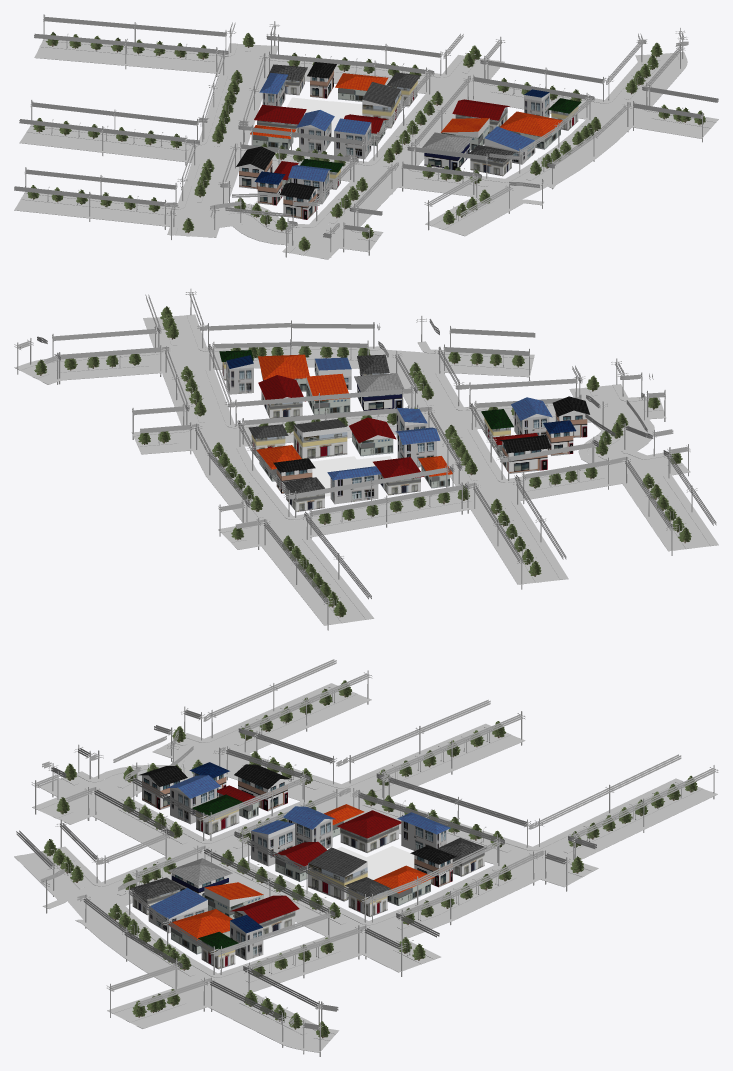
File: MyScene1_0.fbx
3 renders of one model, top to bottom at view 1: azimuth 30°, elevation 25°; view 2: azimuth 150°, elevation 25°; view 3: azimuth 270°, elevation 25°, orthographic. The views are drawn at different scales.
Visible parts, largest first — view 1: CityEngineMaterial_5_m, CityEngineMaterial_2_m, CityEngineMaterial_4_m, CityEngineMaterial_13_m, CityEngineMaterial_3_m, CityEngineMaterial_m, CityEngineMaterial_10_m, CityEngineMaterial_22_m, CityEngineMaterial_8_m, CityEngineMaterial_23_m, CityEngineMaterial_27_m, CityEngineMaterial_18_m (+16 smaller); view 2: CityEngineMaterial_5_m, CityEngineMaterial_2_m, CityEngineMaterial_4_m, CityEngineMaterial_m, CityEngineMaterial_13_m, CityEngineMaterial_3_m, CityEngineMaterial_10_m, CityEngineMaterial_22_m, CityEngineMaterial_8_m, CityEngineMaterial_27_m, CityEngineMaterial_18_m, CityEngineMaterial_23_m (+16 smaller); view 3: CityEngineMaterial_5_m, CityEngineMaterial_4_m, CityEngineMaterial_2_m, CityEngineMaterial_22_m, CityEngineMaterial_3_m, CityEngineMaterial_m, CityEngineMaterial_8_m, CityEngineMaterial_18_m, CityEngineMaterial_23_m, CityEngineMaterial_13_m, CityEngineMaterial_20_m, CityEngineMaterial_27_m (+15 smaller).
Part boxes in pixels (<box>): CityEngineMaterial_5_m: <box>14,17,718,238</box>; CityEngineMaterial_2_m: <box>20,41,715,256</box>; CityEngineMaterial_4_m: <box>14,39,718,259</box>; CityEngineMaterial_13_m: <box>55,54,707,240</box>; CityEngineMaterial_3_m: <box>17,40,715,258</box>; CityEngineMaterial_m: <box>25,14,702,257</box>; CityEngineMaterial_10_m: <box>18,45,683,258</box>; CityEngineMaterial_22_m: <box>262,81,549,204</box>; CityEngineMaterial_8_m: <box>168,52,632,248</box>; CityEngineMaterial_23_m: <box>259,73,534,181</box>; CityEngineMaterial_27_m: <box>250,73,562,138</box>; CityEngineMaterial_18_m: <box>254,99,509,180</box>; CityEngineMaterial_5_m: <box>18,292,716,603</box>; CityEngineMaterial_2_m: <box>27,316,700,624</box>; CityEngineMaterial_4_m: <box>14,314,718,625</box>; CityEngineMaterial_m: <box>17,288,692,630</box>; CityEngineMaterial_13_m: <box>53,315,698,603</box>; CityEngineMaterial_3_m: <box>20,315,710,624</box>; CityEngineMaterial_10_m: <box>20,326,709,620</box>; CityEngineMaterial_22_m: <box>226,359,549,504</box>; CityEngineMaterial_8_m: <box>152,350,668,545</box>; CityEngineMaterial_27_m: <box>256,354,452,476</box>; CityEngineMaterial_18_m: <box>258,375,538,478</box>; CityEngineMaterial_23_m: <box>315,357,552,480</box>; CityEngineMaterial_5_m: <box>16,659,715,1029</box>; CityEngineMaterial_4_m: <box>14,683,717,1052</box>; CityEngineMaterial_2_m: <box>33,692,710,1046</box>; CityEngineMaterial_22_m: <box>148,788,446,960</box>; CityEngineMaterial_3_m: <box>22,686,710,1048</box>; CityEngineMaterial_m: <box>35,670,714,1056</box>; CityEngineMaterial_8_m: <box>63,740,572,1005</box>; CityEngineMaterial_18_m: <box>217,785,401,923</box>; CityEngineMaterial_23_m: <box>149,775,450,918</box>; CityEngineMaterial_13_m: <box>41,702,653,1040</box>; CityEngineMaterial_20_m: <box>196,805,387,969</box>; CityEngineMaterial_27_m: <box>169,804,434,940</box>.
Size of the model in its own units: 279 by 13.62 by 225.
